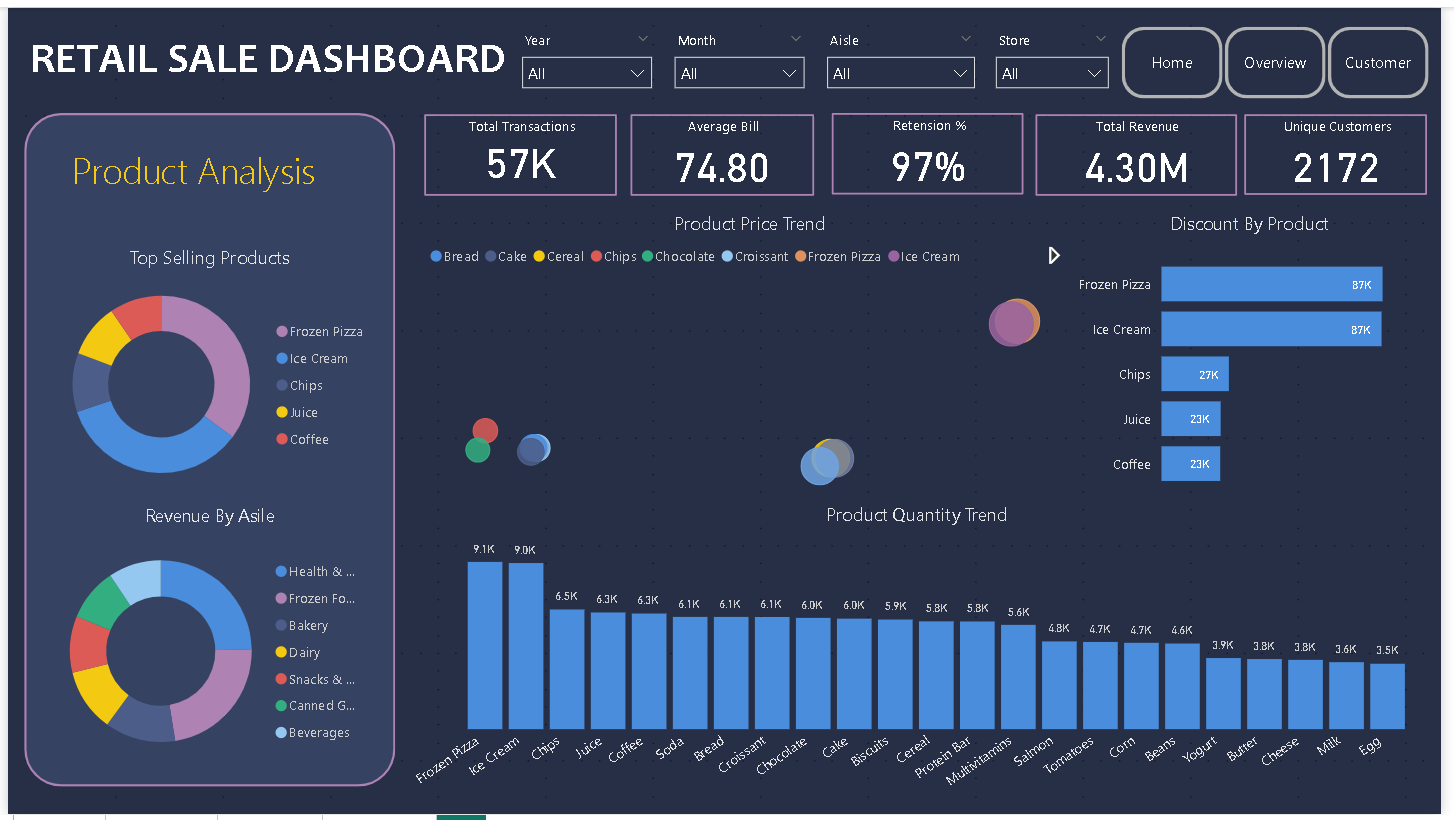

What the dashboard file says about the page in this screenshot:
{"tool":"powerbi","page":{"name":"Product","canvas":[1280,720],"ordinal":2},"visuals":[{"type":"slicer","title":"Year","fields":{"Values":["public retail_sales.year"]},"box":[448.6,15.7,136,64],"z":0,"group":"g2"},{"type":"shape","box":[14.3,94.3,331.4,601.4],"z":0},{"type":"card","title":"Average Bill","fields":{"Values":["Sum(public retail_kpi_summary.avg_bill_value)"]},"box":[555.2,95.8,163.7,72.7],"z":0,"group":"g3"},{"type":"slicer","fields":{"Values":["public retail_sales.month_name"]},"box":[584.6,15.7,136,64],"z":1000,"group":"g2"},{"type":"card","title":"Total Revenue","fields":{"Values":["Sum(public retail_kpi_summary.total_revenue)"]},"box":[917.4,95.8,179.8,72.7],"z":1000,"group":"g3"},{"type":"group","id":"g1","title":"Group 3","box":[26,118,280,54],"z":1000},{"type":"slicer","fields":{"Values":["public retail_sales.aisle"]},"box":[720.6,15.7,152,64],"z":2000,"group":"g2"},{"type":"card","title":"Total Transactions","fields":{"Values":["Sum(public retail_kpi_summary.total_transactions)"]},"box":[371.4,95.8,171.7,72.7],"z":2000,"group":"g3"},{"type":"textbox","box":[26,118,280,54],"z":2000,"group":"g1"},{"type":"lineStackedColumnComboChart","title":"Product Quantity Trend","fields":{"Category":["public retail_sales.product_name"],"Y":["Sum(public retail_sales.quantity)"]},"box":[355.7,440,911.4,280],"z":2000},{"type":"slicer","fields":{"Values":["public retail_sales.store_name"]},"box":[872.1,16,121.6,64.7],"z":3000,"group":"g2"},{"type":"card","title":"Unique Customers","fields":{"Values":["Sum(public retail_kpi_summary.unique_customers)"]},"box":[1104,95.5,163.1,72.2],"z":3000,"group":"g3"},{"type":"donutChart","title":"Revenue By Asile","fields":{"Category":["public retail_sales.aisle"],"Y":["Sum(public retail_sales.Total Revenue)"]},"box":[30,440.4,300,244.8],"z":3000},{"type":"donutChart","title":"Top Selling Products","fields":{"Category":["public product_performance_view.product_name"],"Y":["Sum(public retail_sales.final_amount)"]},"box":[30,210,300,230.4],"z":4000},{"type":"card","title":"Retension %","fields":{"Values":["public customer_summary_view.Retention %"]},"box":[735,94.3,171.4,73.2],"z":5000,"group":"g3"},{"type":"scatterChart","title":"Product Price Trend","fields":{"X":["Sum(public retail_sales.unit_price)"],"Y":["Sum(public retail_sales.quantity)"],"Series":["public retail_sales.product_name"],"Size":["Sum(public retail_sales.Total Revenue)"]},"box":[371.5,179.5,581.6,260.2],"z":5000},{"type":"barChart","title":"Discount By Product","fields":{"Category":["public retail_sales.product_name"],"Y":["Sum(public retail_sales.discount_amount)"]},"box":[951.4,180,315.7,260],"z":6000},{"type":"group","id":"g2","title":"Group 1","box":[448.6,15.7,545.7,65.7],"z":7000},{"type":"pageNavigator","box":[994.3,17.1,274.3,64.3],"z":8000},{"type":"textbox","box":[14.3,17.1,442.9,64.3],"z":9000},{"type":"group","id":"g3","title":"Group 2","box":[371.4,94.3,895.7,74.3],"z":10000}]}

Visuals, with their boxes in screenshot pixels (x1, y1, x2, y2), scaled from the page's 1280x720 canvas onto the 1454x820 screenshot:
"Year" slicer: left=510, top=18, right=664, bottom=91
shape: left=16, top=107, right=393, bottom=792
"Average Bill" card: left=631, top=109, right=817, bottom=192
slicer - public retail_sales.month_name: left=664, top=18, right=819, bottom=91
"Total Revenue" card: left=1042, top=109, right=1246, bottom=192
"Group 3" group: left=30, top=134, right=348, bottom=196
slicer - public retail_sales.aisle: left=819, top=18, right=991, bottom=91
"Total Transactions" card: left=422, top=109, right=617, bottom=192
textbox: left=30, top=134, right=348, bottom=196
"Product Quantity Trend" lineStackedColumnComboChart: left=404, top=501, right=1439, bottom=819
slicer - public retail_sales.store_name: left=991, top=18, right=1129, bottom=92
"Unique Customers" card: left=1254, top=109, right=1439, bottom=191
"Revenue By Asile" donutChart: left=34, top=502, right=375, bottom=780
"Top Selling Products" donutChart: left=34, top=239, right=375, bottom=502
"Retension %" card: left=835, top=107, right=1030, bottom=191
"Product Price Trend" scatterChart: left=422, top=204, right=1083, bottom=501
"Discount By Product" barChart: left=1081, top=205, right=1439, bottom=501
"Group 1" group: left=510, top=18, right=1129, bottom=93
pageNavigator: left=1129, top=19, right=1441, bottom=93
textbox: left=16, top=19, right=519, bottom=93
"Group 2" group: left=422, top=107, right=1439, bottom=192
